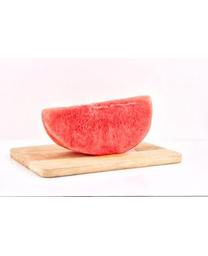watermelon: (37, 93, 153, 157)
